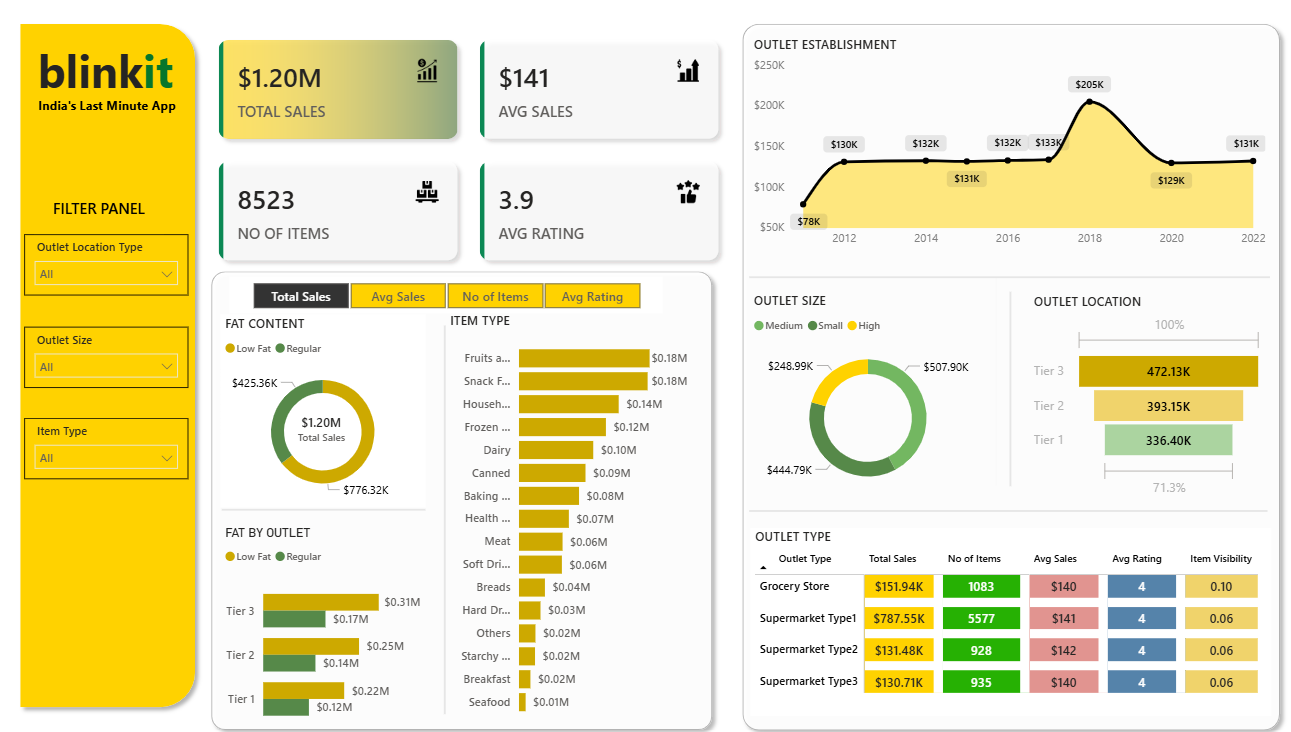

What the dashboard file says about the page in this screenshot:
{"tool":"powerbi","page":{"name":"blinkit DataLens","canvas":[1400,800],"ordinal":0},"visuals":[{"type":"shape","box":[14.1,23.9,205.6,750.7],"z":0},{"type":"textbox","box":[38,45.1,157.7,80.3],"z":1000},{"type":"textbox","box":[25.4,105.6,183.1,38],"z":2000},{"type":"cardVisual","fields":{"Data":["BlinkIT Grocery Data.Total Sales","BlinkIT Grocery Data.Avg Sales","BlinkIT Grocery Data.No of Items","BlinkIT Grocery Data.Avg Rating"]},"box":[219.7,33.8,570.4,270.4],"z":3000},{"type":"shape","box":[219.7,290.1,554.9,509.9],"z":4000},{"type":"donutChart","title":"FAT CONTENT","fields":{"Y":["BlinkIT Grocery Data.Total Sales"],"Category":["BlinkIT Grocery Data.Item Fat Content"]},"box":[238,345.1,219.7,207],"z":5000},{"type":"slicer","fields":{"Values":["Metrics.Metrics"]},"box":[247.9,304.2,464.8,39.4],"z":6000},{"type":"cardVisual","fields":{"Data":["BlinkIT Grocery Data.Total Sales"]},"box":[291.5,433.8,112.7,54.9],"z":7000},{"type":"clusteredBarChart","title":"FAT BY OUTLET","fields":{"Y":["BlinkIT Grocery Data.Total Sales"],"Category":["BlinkIT Grocery Data.Outlet Location Type"],"Series":["BlinkIT Grocery Data.Item Fat Content"]},"box":[238,570.4,219.7,229.6],"z":8000},{"type":"shape","box":[961.4,305.7,218.6,222.9],"z":9000},{"type":"shape","box":[453.5,356.3,52.1,416.9],"z":10000},{"type":"barChart","title":"ITEM TYPE","fields":{"Y":["BlinkIT Grocery Data.Total Sales"],"Category":["BlinkIT Grocery Data.Item Type"]},"box":[480.3,342.3,264.8,443.7],"z":11000},{"type":"shape","box":[790,24.3,594.3,775.7],"z":12000},{"type":"lineChart","title":"OUTLET ESTABLISHMENT","fields":{"Y":["BlinkIT Grocery Data.Total Sales"],"Category":["BlinkIT Grocery Data.Outlet Establishment Year"]},"box":[805.7,45.7,558.6,235.7],"z":13000},{"type":"shape","box":[805.7,285.7,558.6,38.6],"z":14000},{"type":"donutChart","title":"OUTLET SIZE ","fields":{"Y":["BlinkIT Grocery Data.Total Sales"],"Category":["BlinkIT Grocery Data.Outlet Size"]},"box":[805.7,320,255,225.7],"z":15000},{"type":"shape","box":[240,534.3,218.6,38.6],"z":16000},{"type":"shape","box":[1065.7,320,40,208.6],"z":17000},{"type":"funnel","title":"OUTLET LOCATION ","fields":{"Y":["Sum(BlinkIT Grocery Data.Sales)"],"Category":["BlinkIT Grocery Data.Outlet Location Type"]},"box":[1105.7,321.4,255.7,224.3],"z":18000},{"type":"shape","box":[805.7,535.7,555.7,38.6],"z":19000},{"type":"pivotTable","title":"OUTLET TYPE","fields":{"Values":["BlinkIT Grocery Data.Total Sales","BlinkIT Grocery Data.No of Items","BlinkIT Grocery Data.Avg Sales","BlinkIT Grocery Data.Avg Rating","Avg(BlinkIT Grocery Data.Item Visibility)"],"Rows":["BlinkIT Grocery Data.Outlet Type"]},"box":[807.1,574.3,558.6,201.4],"z":20000},{"type":"slicer","fields":{"Values":["BlinkIT Grocery Data.Outlet Location Type"]},"box":[28.6,258.6,175.7,65.7],"z":21000},{"type":"slicer","fields":{"Values":["BlinkIT Grocery Data.Outlet Size"]},"box":[28.6,358.6,175.7,65.7],"z":22000},{"type":"slicer","fields":{"Values":["BlinkIT Grocery Data.Item Type"]},"box":[28.6,455.7,175.7,65.7],"z":23000},{"type":"textbox","box":[38.6,214.3,138.6,44.3],"z":24000}]}

Visuals, with their boxes in screenshot pixels (x1, y1, x2, y2), scaled from the page's 1400x800 canvas onto the 1291x732 screenshot:
shape: x1=13 y1=22 x2=203 y2=709
textbox: x1=35 y1=41 x2=180 y2=115
textbox: x1=23 y1=97 x2=192 y2=131
cardVisual - BlinkIT Grocery Data.Total Sales x BlinkIT Grocery Data.Avg Sales: x1=203 y1=31 x2=729 y2=278
shape: x1=203 y1=265 x2=714 y2=731
"FAT CONTENT" donutChart: x1=219 y1=316 x2=422 y2=505
slicer - Metrics.Metrics: x1=229 y1=278 x2=657 y2=314
cardVisual - BlinkIT Grocery Data.Total Sales: x1=269 y1=397 x2=373 y2=447
"FAT BY OUTLET" clusteredBarChart: x1=219 y1=522 x2=422 y2=731
shape: x1=887 y1=280 x2=1088 y2=484
shape: x1=418 y1=326 x2=466 y2=707
"ITEM TYPE" barChart: x1=443 y1=313 x2=687 y2=719
shape: x1=728 y1=22 x2=1277 y2=731
"OUTLET ESTABLISHMENT" lineChart: x1=743 y1=42 x2=1258 y2=257
shape: x1=743 y1=261 x2=1258 y2=297
"OUTLET SIZE " donutChart: x1=743 y1=293 x2=978 y2=499
shape: x1=221 y1=489 x2=423 y2=524
shape: x1=983 y1=293 x2=1020 y2=484
"OUTLET LOCATION " funnel: x1=1020 y1=294 x2=1255 y2=499
shape: x1=743 y1=490 x2=1255 y2=525
"OUTLET TYPE" pivotTable: x1=744 y1=525 x2=1259 y2=710
slicer - BlinkIT Grocery Data.Outlet Location Type: x1=26 y1=237 x2=188 y2=297
slicer - BlinkIT Grocery Data.Outlet Size: x1=26 y1=328 x2=188 y2=388
slicer - BlinkIT Grocery Data.Item Type: x1=26 y1=417 x2=188 y2=477
textbox: x1=36 y1=196 x2=163 y2=237
